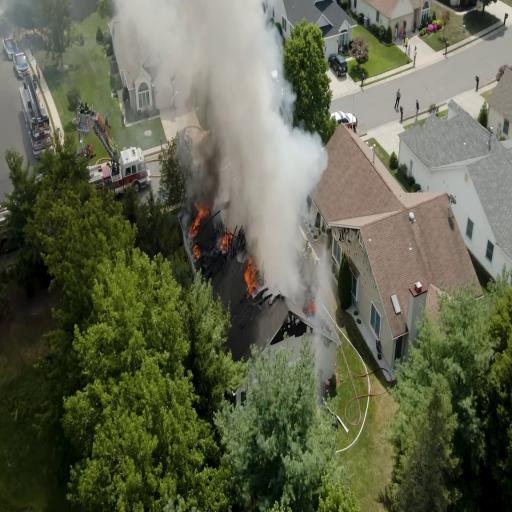smoke: (181, 0, 266, 108), (236, 124, 310, 218)
